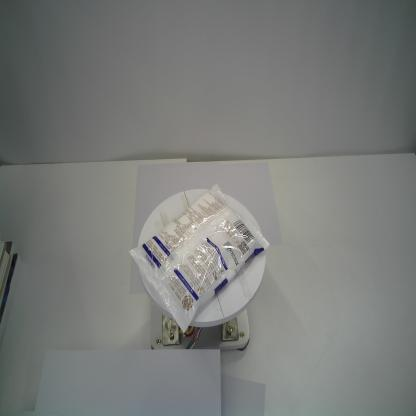Seasoner: (128, 182, 272, 334)
